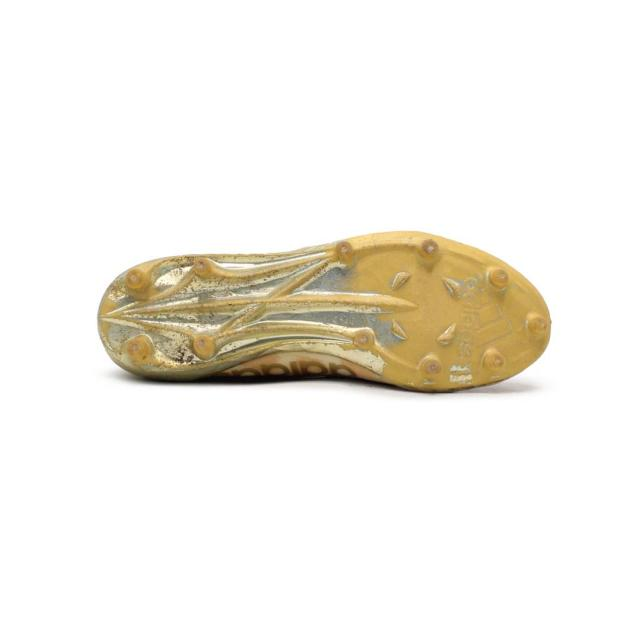outersole: (94, 234, 544, 391)
